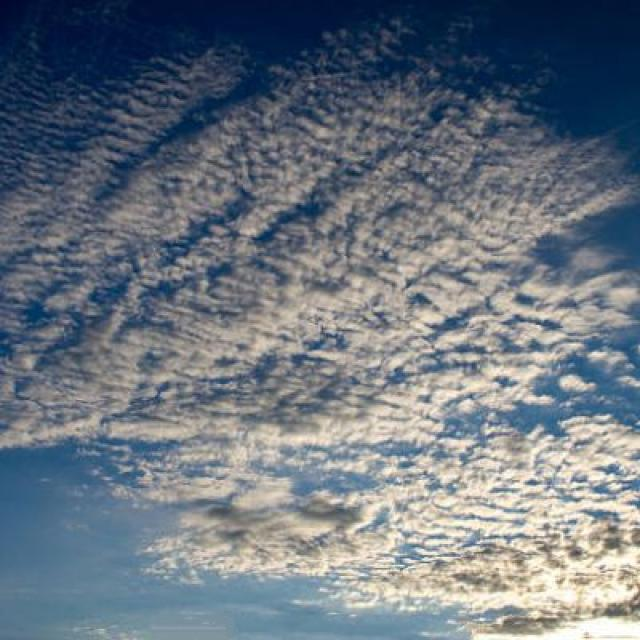Cc: (1, 15, 640, 530)
